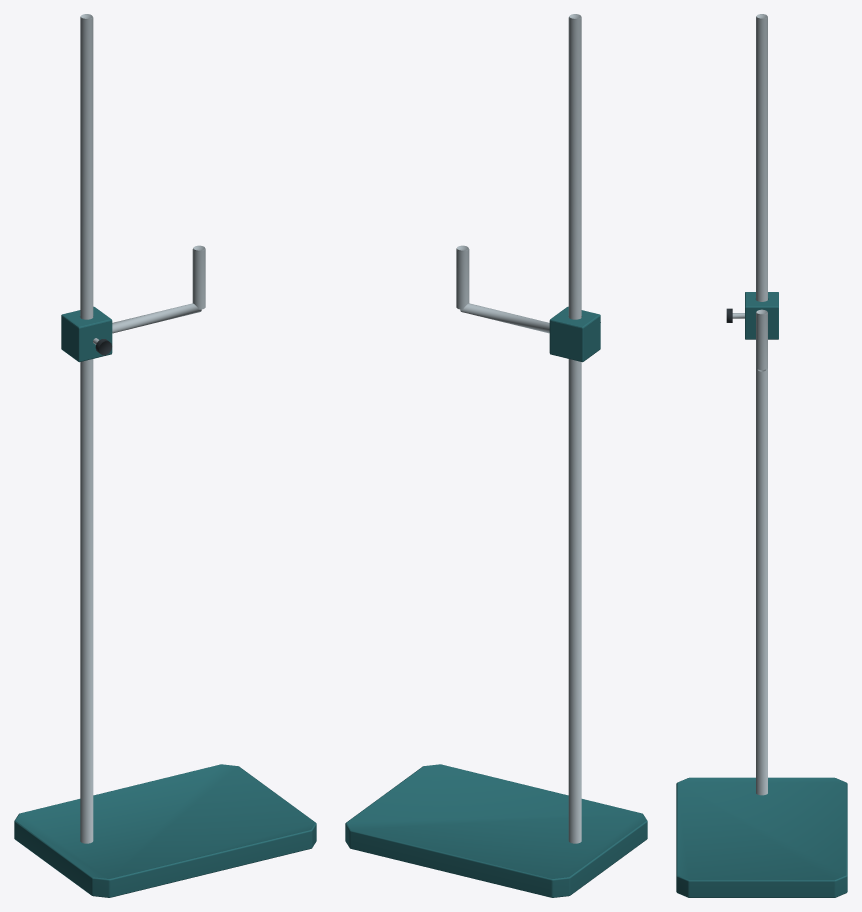
File: VLAB_stand.fbx
3 renders of one model, left to right at view 1: azimuth 30°, elevation 25°; view 2: azimuth 150°, elevation 25°; view 3: azimuth 270°, elevation 25°, orthographic. The views are drawn at different scales.
Parts seen in each view (by area): view 1: VLAB_stand_Base_VIS, VLAB_stand_Rod_VIS, VLAB_stand_Boss_VIS, VLAB_stand_ClampMount_VIS; view 2: VLAB_stand_Base_VIS, VLAB_stand_Rod_VIS, VLAB_stand_Boss_VIS, VLAB_stand_ClampMount_VIS; view 3: VLAB_stand_Base_VIS, VLAB_stand_Rod_VIS, VLAB_stand_Boss_VIS, VLAB_stand_ClampMount_VIS.
Part boxes in pixels (box(x1,y1,x2,y2)): VLAB_stand_Base_VIS: box(14, 764, 316, 897); VLAB_stand_Rod_VIS: box(80, 14, 93, 843); VLAB_stand_Boss_VIS: box(61, 306, 112, 362); VLAB_stand_ClampMount_VIS: box(112, 245, 205, 333); VLAB_stand_Base_VIS: box(345, 764, 647, 897); VLAB_stand_Rod_VIS: box(568, 14, 581, 843); VLAB_stand_Boss_VIS: box(549, 306, 600, 362); VLAB_stand_ClampMount_VIS: box(456, 245, 549, 333); VLAB_stand_Base_VIS: box(676, 777, 847, 897); VLAB_stand_Rod_VIS: box(756, 14, 767, 795); VLAB_stand_Boss_VIS: box(726, 292, 778, 339); VLAB_stand_ClampMount_VIS: box(756, 309, 767, 371).
Size of the model in its own units: 0.2 by 0.72 by 0.14.
